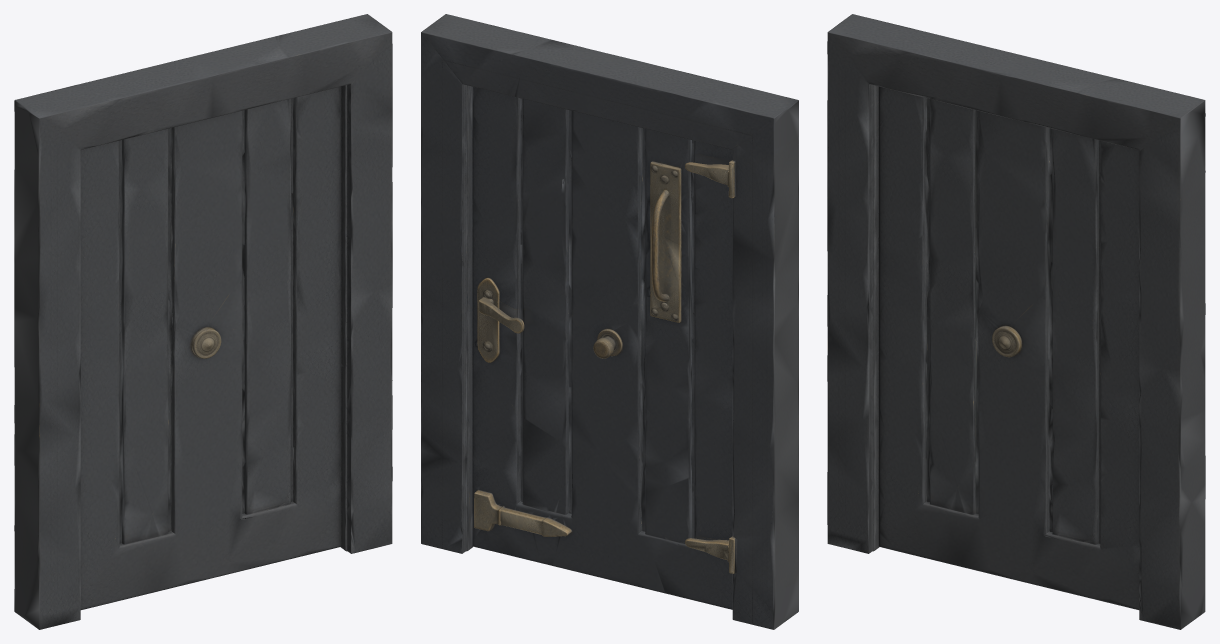
File: PorteAppart.fbx
The picture shows the model from 3 angles, left to right: view 1: azimuth 30°, elevation 25°; view 2: azimuth 150°, elevation 25°; view 3: azimuth 330°, elevation 25°; orthographic projection.
Parts seen in each view (by area): view 1: Mesh_0; view 2: Mesh_0; view 3: Mesh_0.
Boxes of the visible parts, box(x1,y1,x2,y2) form: Mesh_0: box(14, 14, 392, 629); Mesh_0: box(421, 14, 798, 629); Mesh_0: box(827, 14, 1205, 629).
Size of the model in its own units: 137 by 190 by 20.57.
1 material, 1 textured.
